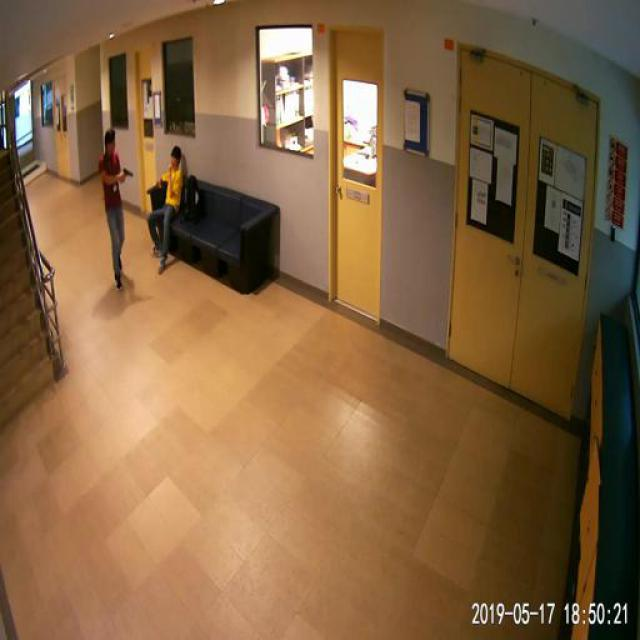Gun: (120, 166, 131, 182)
